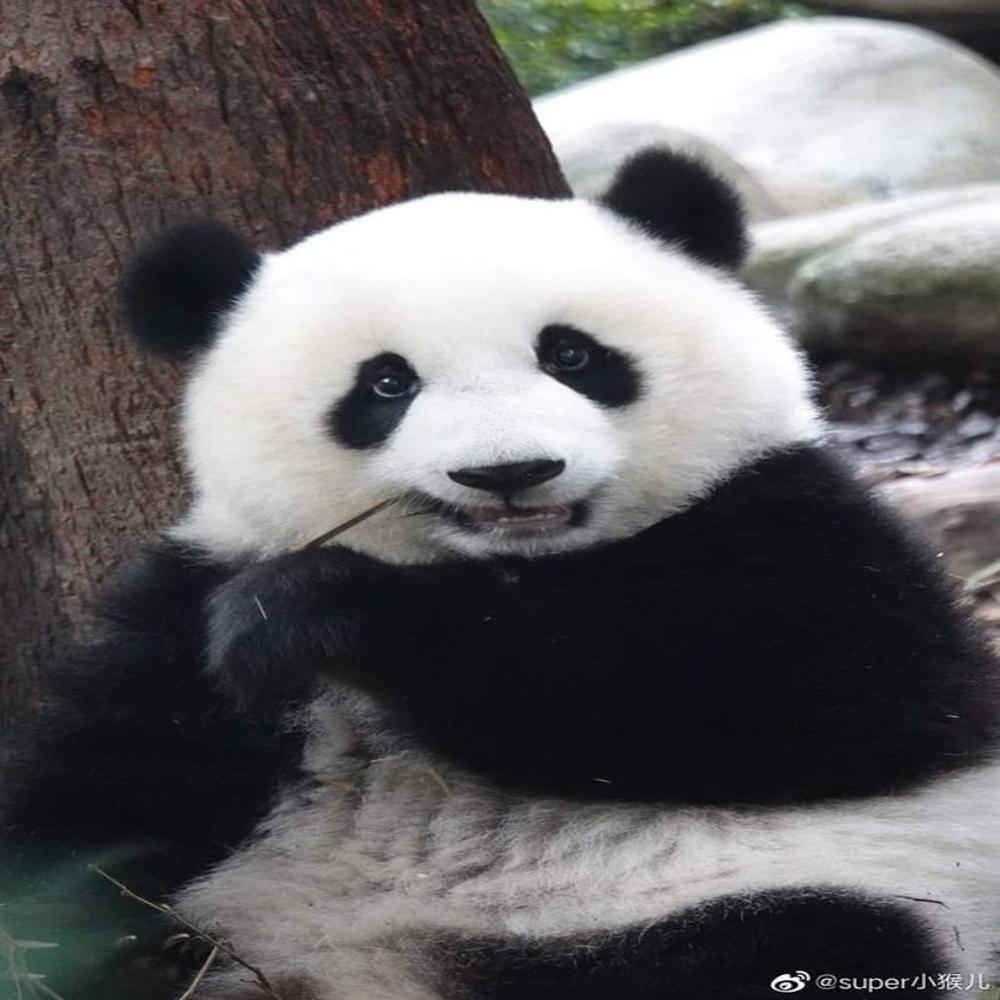panda: (58, 132, 1000, 968)
